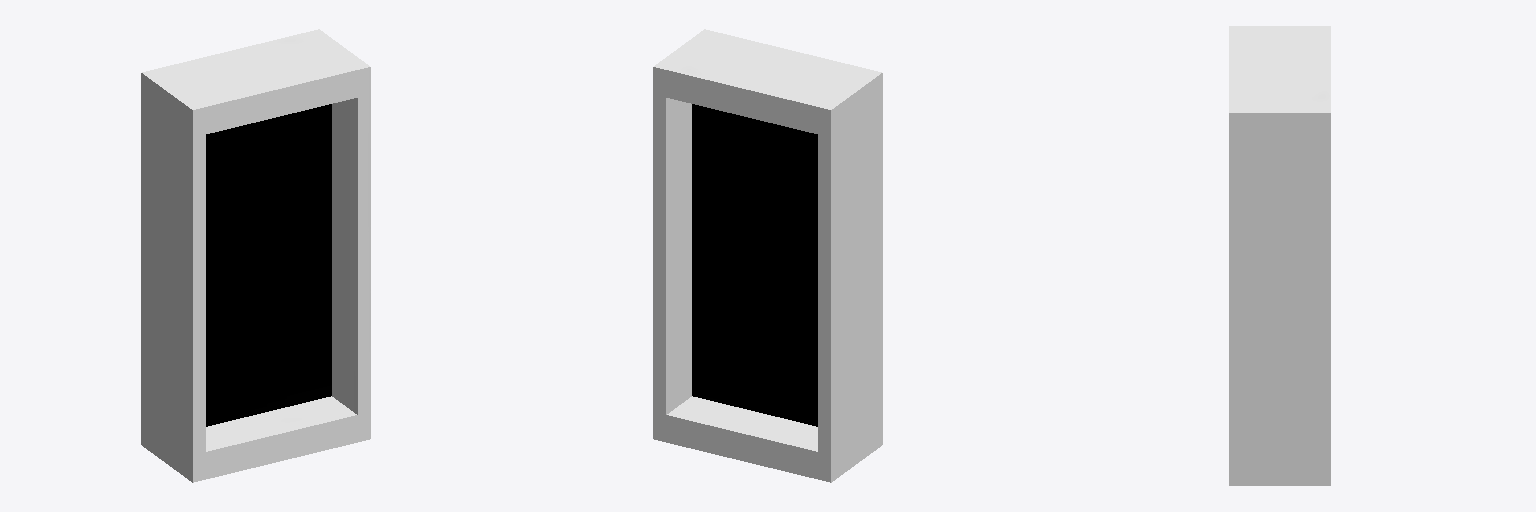
The picture shows the model from 3 angles: view 1: azimuth 30°, elevation 25°; view 2: azimuth 150°, elevation 25°; view 3: azimuth 270°, elevation 25°; orthographic projection.
Visible parts, largest first — view 1: Cube; view 2: Cube; view 3: Cube.
Boxes of the visible parts, <box> form: Cube: <box>141,29,370,482</box>; Cube: <box>653,29,882,482</box>; Cube: <box>1229,26,1330,485</box>.
Bounding box in the file's own units: 2 × 4 × 1.
1 materials, 1 textured.